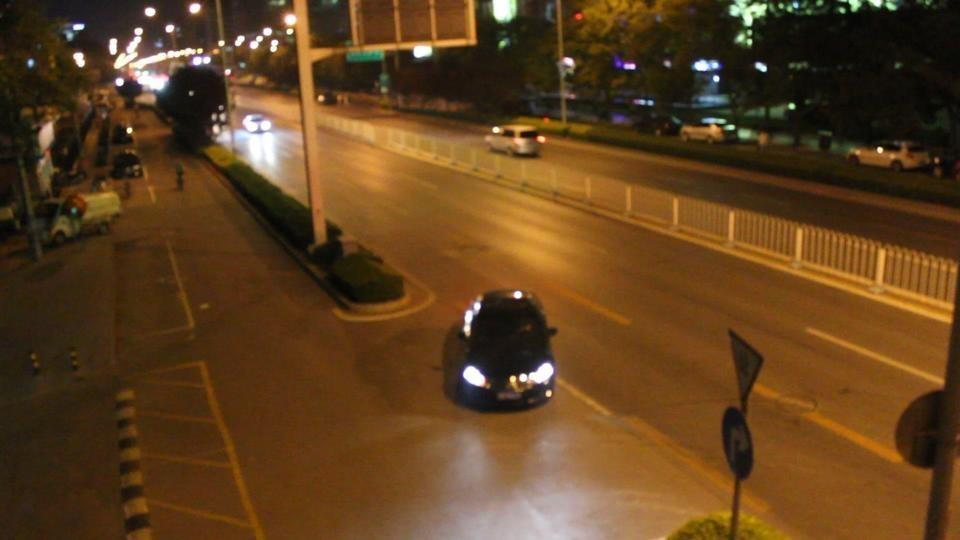car: (445, 288, 559, 411), (50, 190, 124, 240), (846, 141, 935, 174), (38, 196, 86, 246), (484, 124, 544, 158), (680, 119, 737, 144), (110, 151, 144, 179), (241, 113, 273, 133), (113, 124, 134, 144)
